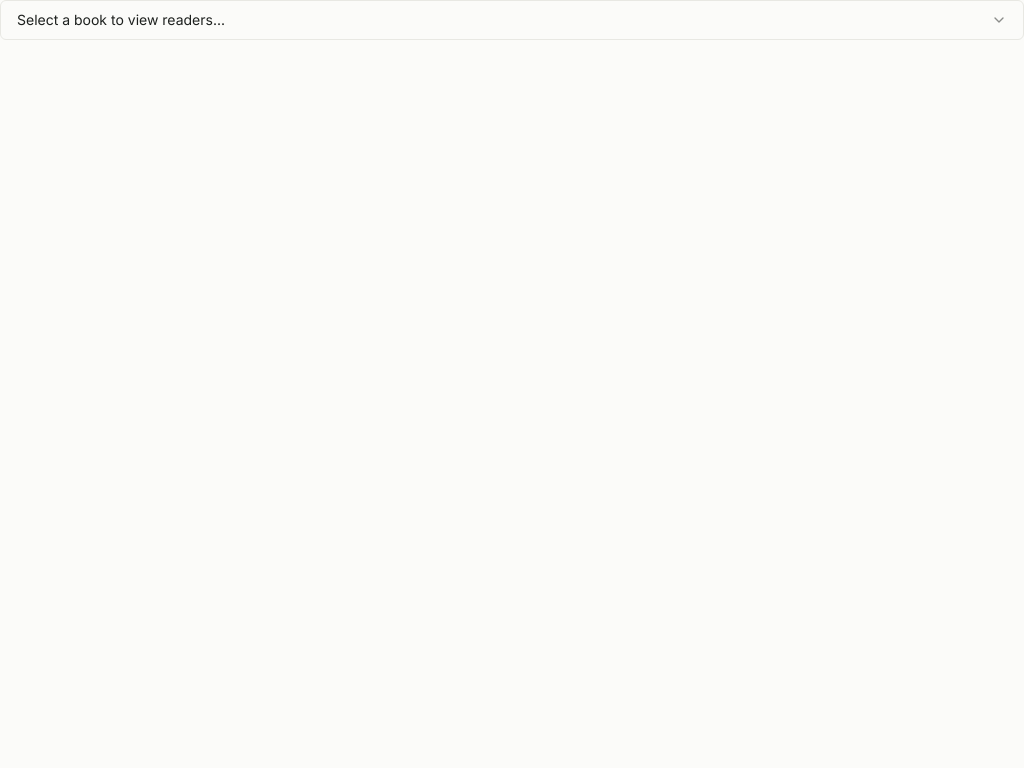
BookFilterDropdown › renders trigger button and shows bookshelf books when opened
Click the dropdown at (121, 20), box [0, 0, 1023, 40]
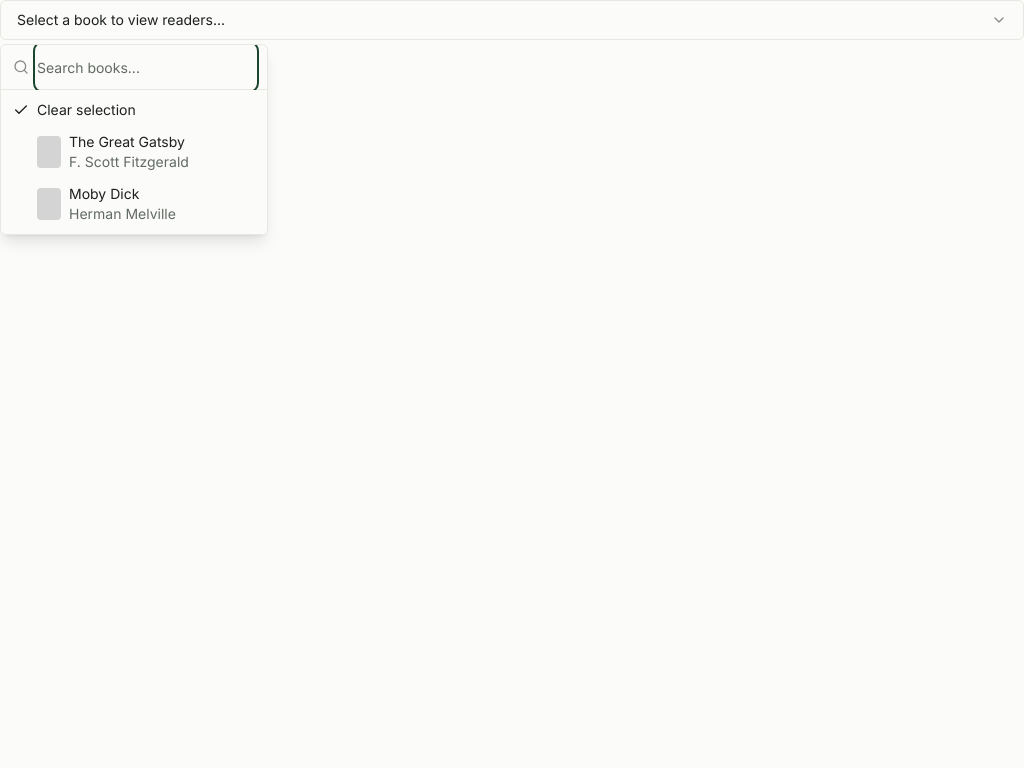
Check: the text "The Great Gatsby" is shown, box [69, 132, 189, 152]
Check: the text "Moby Dick" is shown, box [69, 185, 139, 202]
